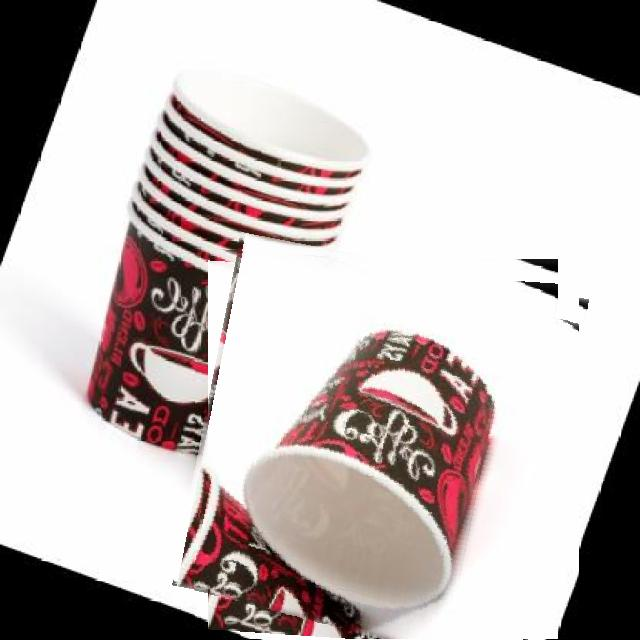non-biodegradable: (187, 247, 579, 639)
